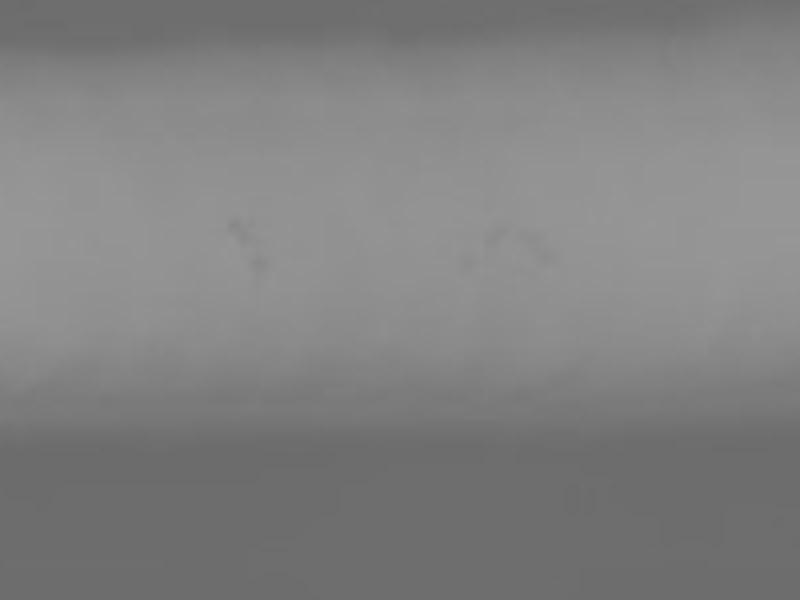defect: (522, 222, 560, 265), (477, 221, 511, 248), (228, 218, 256, 245), (248, 252, 273, 276), (459, 246, 480, 272)
